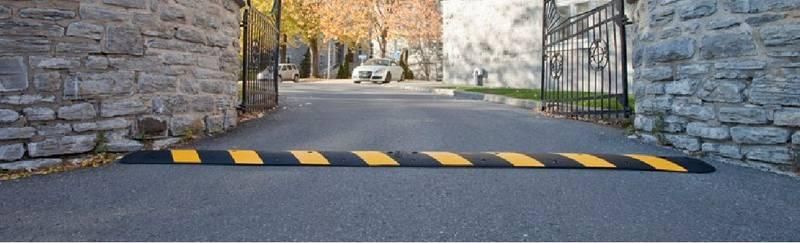Bump: (138, 148, 719, 179)
